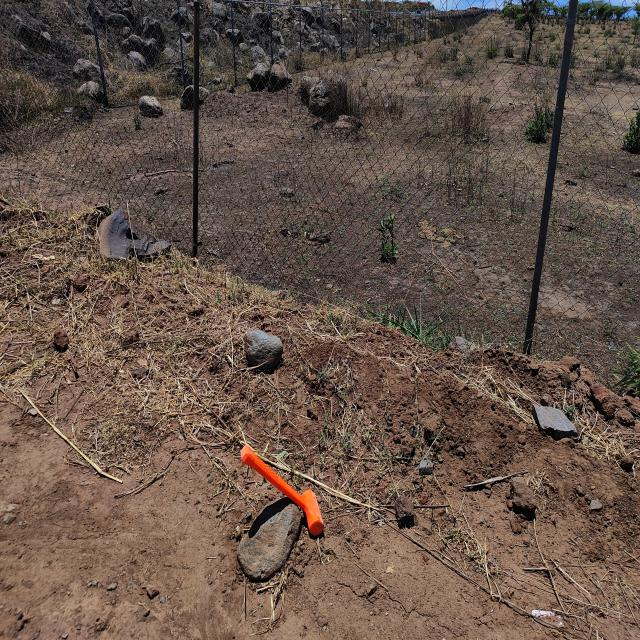Orange_hammer: (239, 443, 324, 538)
